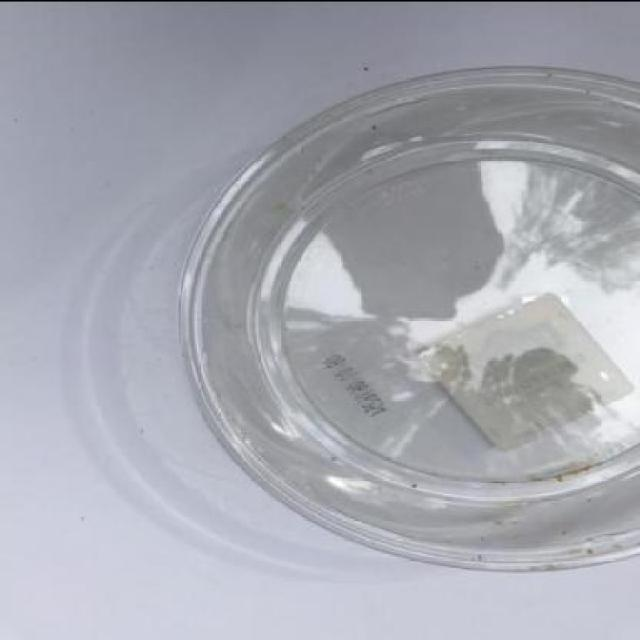PLASTIC: (176, 66, 638, 572)
